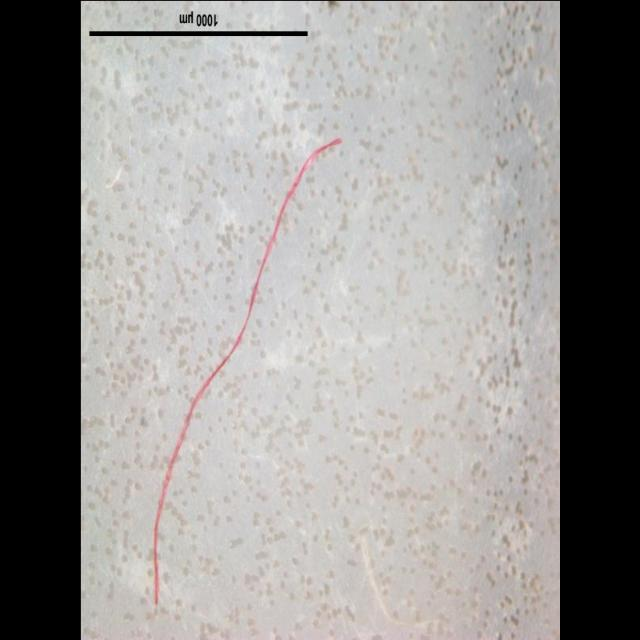Fibre: (152, 136, 342, 608)
